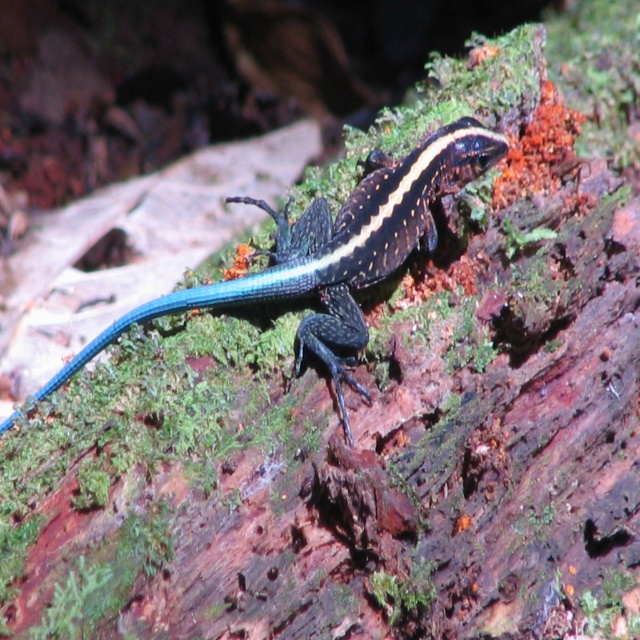Lizard: (0, 115, 510, 448)
